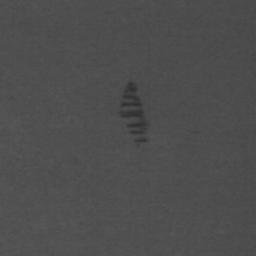Secondary rust skin: (118, 81, 149, 143)
